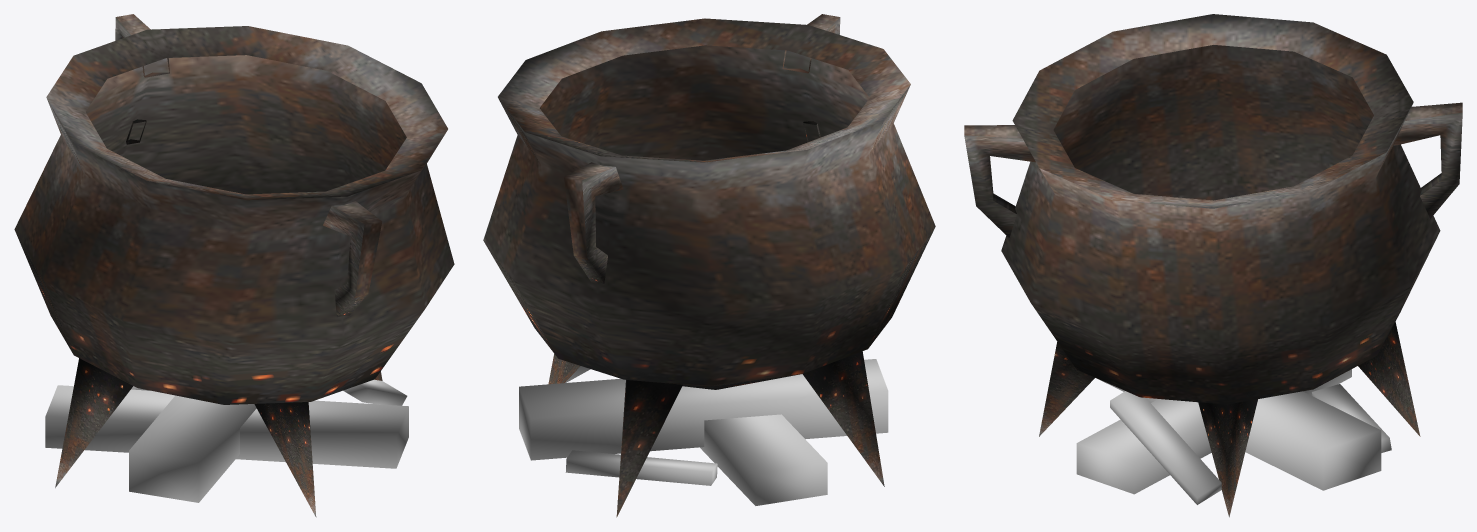
File: tradeskill_alchemycauldron_blue.obj
3 renders of one model, left to right at view 1: azimuth 30°, elevation 25°; view 2: azimuth 150°, elevation 25°; view 3: azimuth 270°, elevation 25°, orthographic. The views are drawn at different scales.
Visible parts, largest first — view 1: TRADESKILL_ALCHEMYCAULDRON_BLUE1, TRADESKILL_ALCHEMYCAULDRON_BLUE0; view 2: TRADESKILL_ALCHEMYCAULDRON_BLUE1, TRADESKILL_ALCHEMYCAULDRON_BLUE0; view 3: TRADESKILL_ALCHEMYCAULDRON_BLUE1, TRADESKILL_ALCHEMYCAULDRON_BLUE0.
Part boxes in pixels (x1,y1,x2,y2): TRADESKILL_ALCHEMYCAULDRON_BLUE1: [14, 14, 454, 517]; TRADESKILL_ALCHEMYCAULDRON_BLUE0: [45, 379, 408, 502]; TRADESKILL_ALCHEMYCAULDRON_BLUE1: [483, 14, 935, 517]; TRADESKILL_ALCHEMYCAULDRON_BLUE0: [519, 359, 888, 505]; TRADESKILL_ALCHEMYCAULDRON_BLUE1: [964, 14, 1462, 517]; TRADESKILL_ALCHEMYCAULDRON_BLUE0: [1076, 369, 1391, 504].
Bounding box in the file's own units: 0.7609 × 0.6708 × 0.8646.
